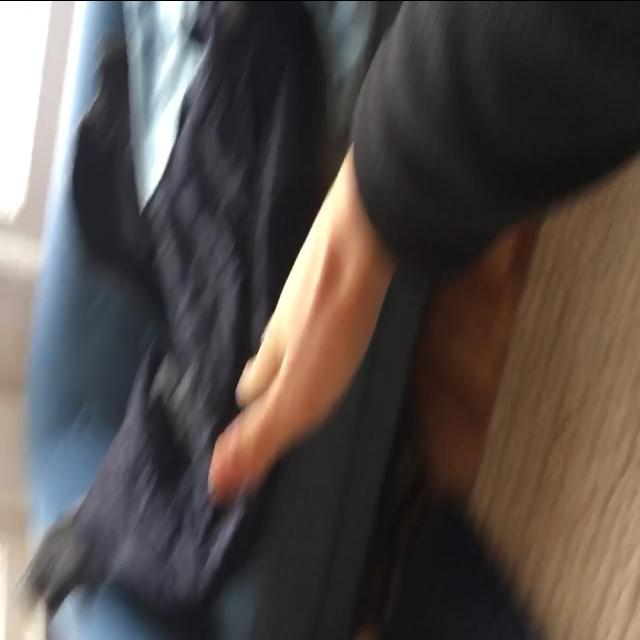Paper: (207, 168, 386, 490)
